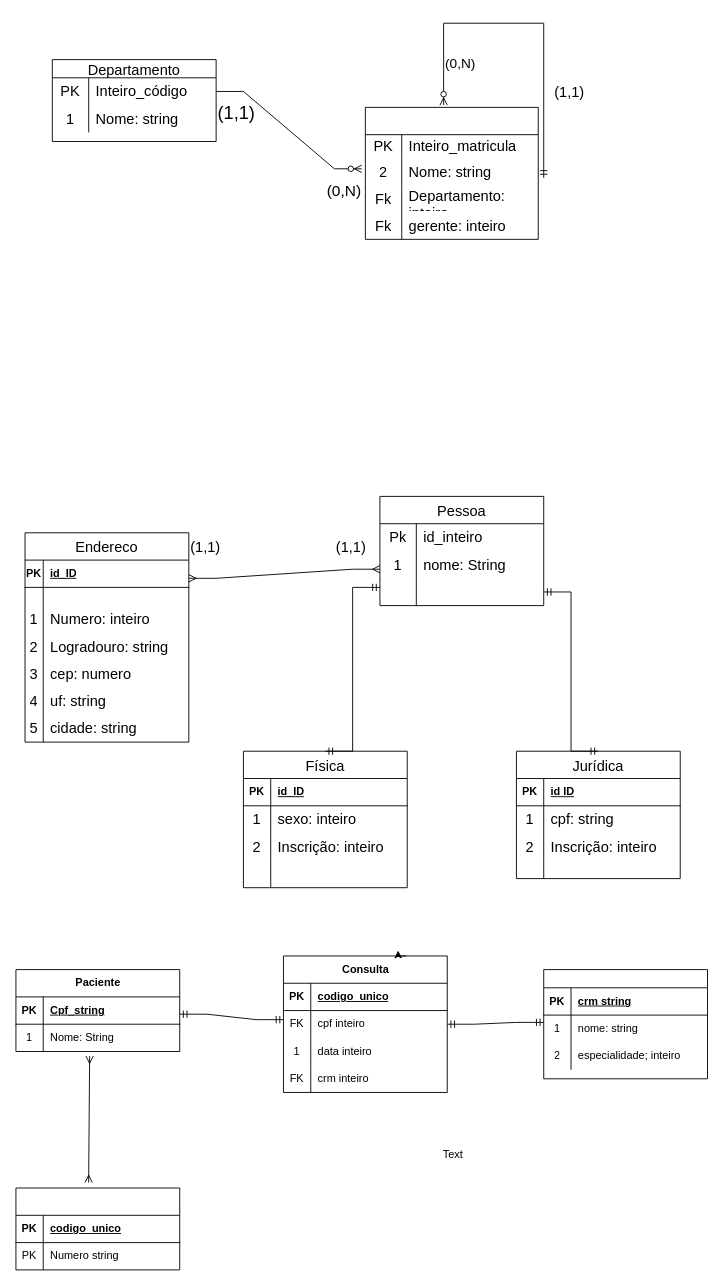
Some shapes in this 723 by 1286 pixel diagram are drawn without their labels. The box of each missing label's shape, as (x1, y1, x2, y2) in pixels:
Funcionário: (364, 106, 538, 239)
Medico: (543, 969, 708, 1079)
Telefone: (15, 1187, 180, 1270)
